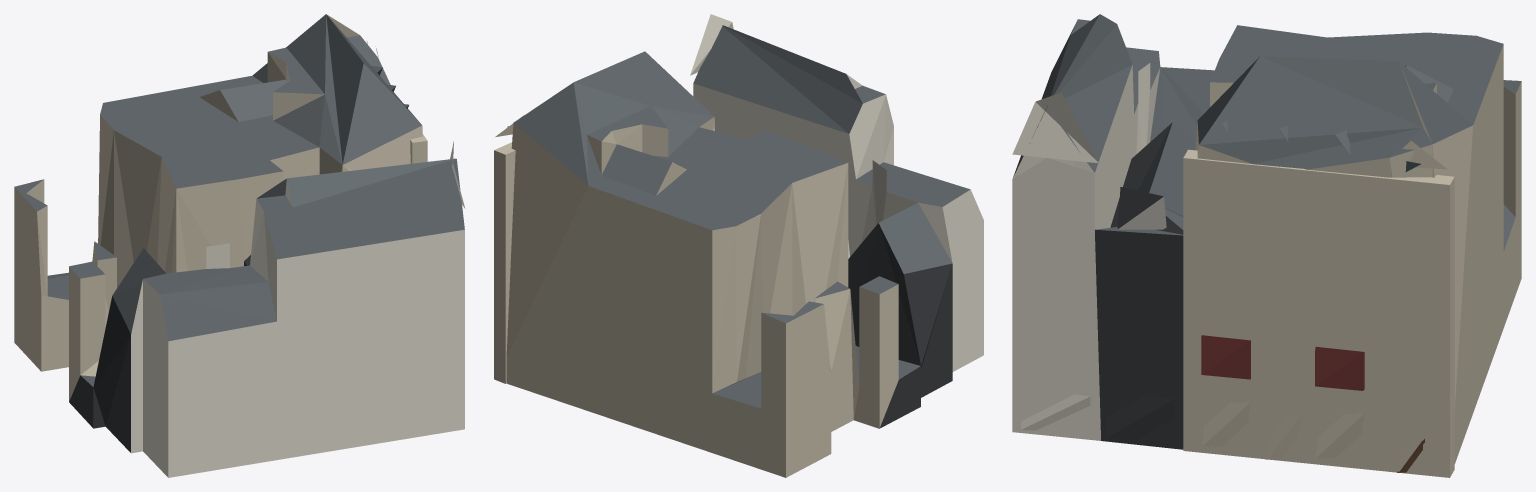
File: hajenius-rokin.lod2.glb
The picture shows the model from 3 angles, left to right: view 1: azimuth 30°, elevation 25°; view 2: azimuth 150°, elevation 25°; view 3: azimuth 270°, elevation 25°; orthographic projection. The views are drawn at different scales.
Parts seen in each view (by area): view 1: lod2; view 2: lod2; view 3: lod2.
Boxes of the visible parts, x1=… form: lod2: x1=14, y1=14, x2=465, y2=477; lod2: x1=494, y1=14, x2=983, y2=477; lod2: x1=1012, y1=14, x2=1521, y2=477.
Bounding box in the file's own units: 31.21 × 25.4 × 30.89.
